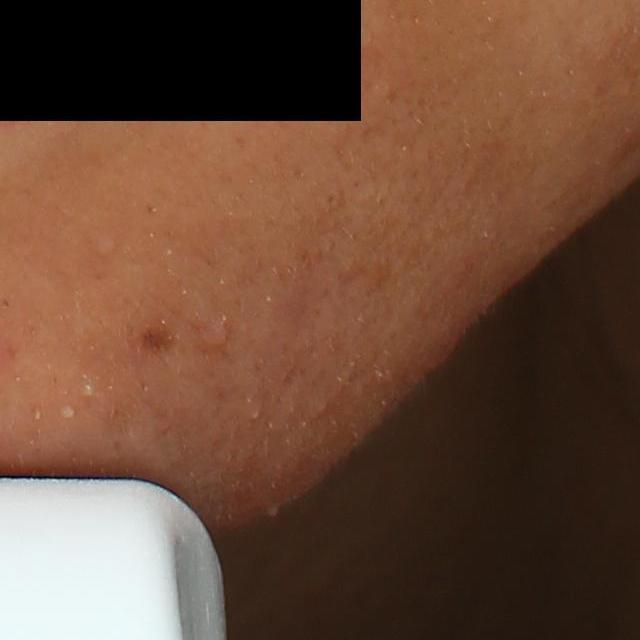comedo: (89, 237, 119, 257), (77, 381, 97, 400)
nevus: (140, 327, 179, 354)
